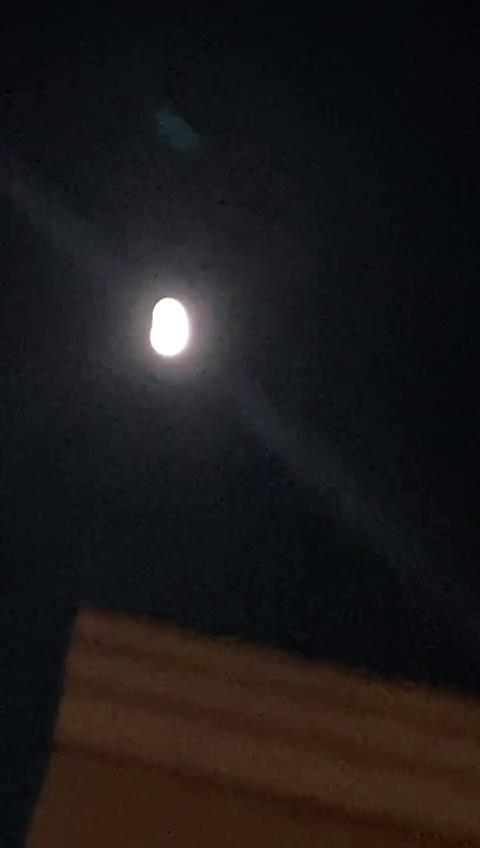moon: (138, 288, 206, 364)
